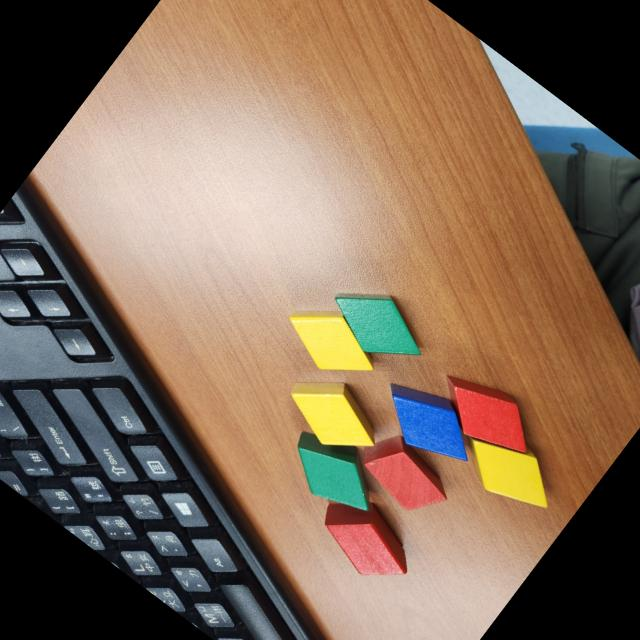blue: (365, 364, 489, 480)
green: (274, 415, 396, 529), (317, 268, 438, 381)
red: (305, 482, 428, 598), (424, 358, 548, 472), (346, 421, 462, 527)
yellow: (273, 288, 392, 399), (453, 418, 570, 528), (276, 362, 392, 471)
